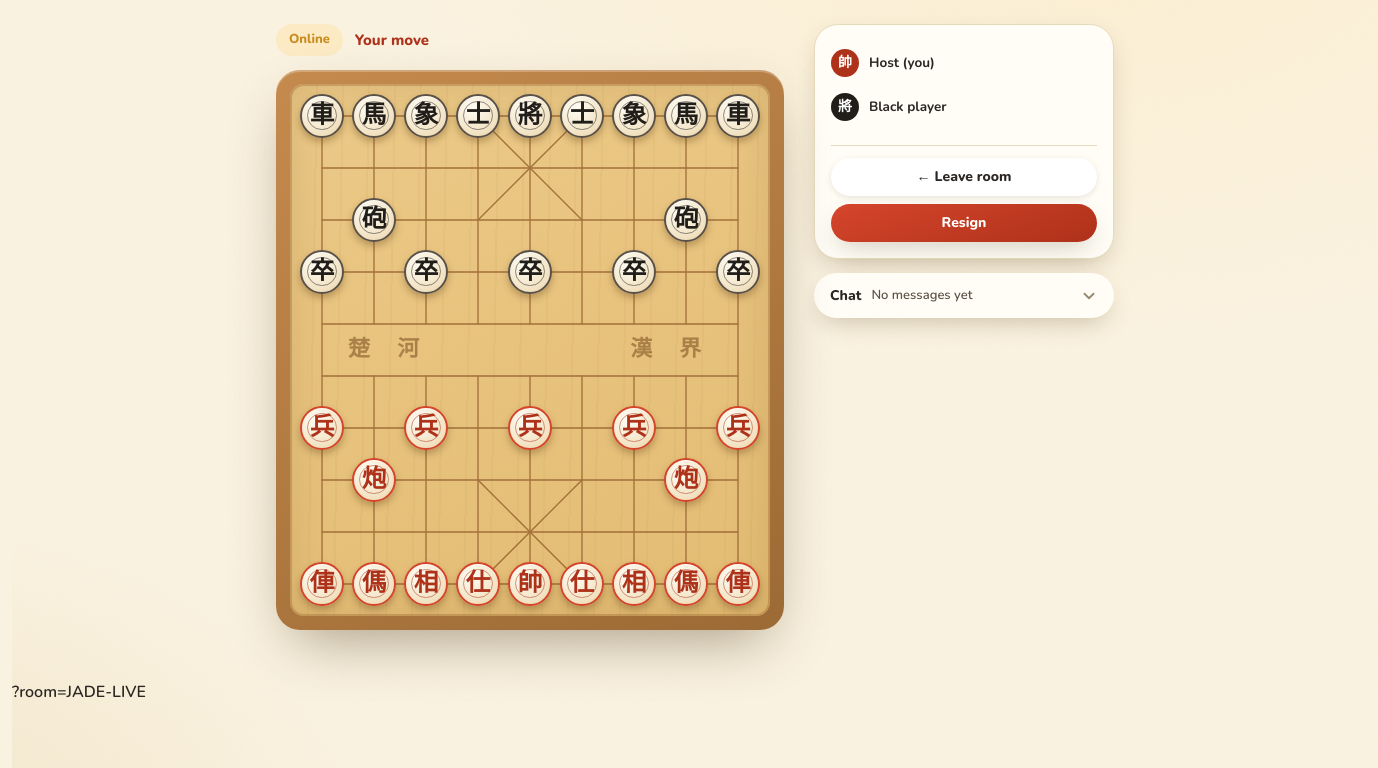
Scenario: MultiplayerScreen rejoin from ?room= › Leave room clears ?room= and stays in the lobby
Click the button "← Leave room" at {"x": 964, "y": 177}, box [831,158,1097,196]
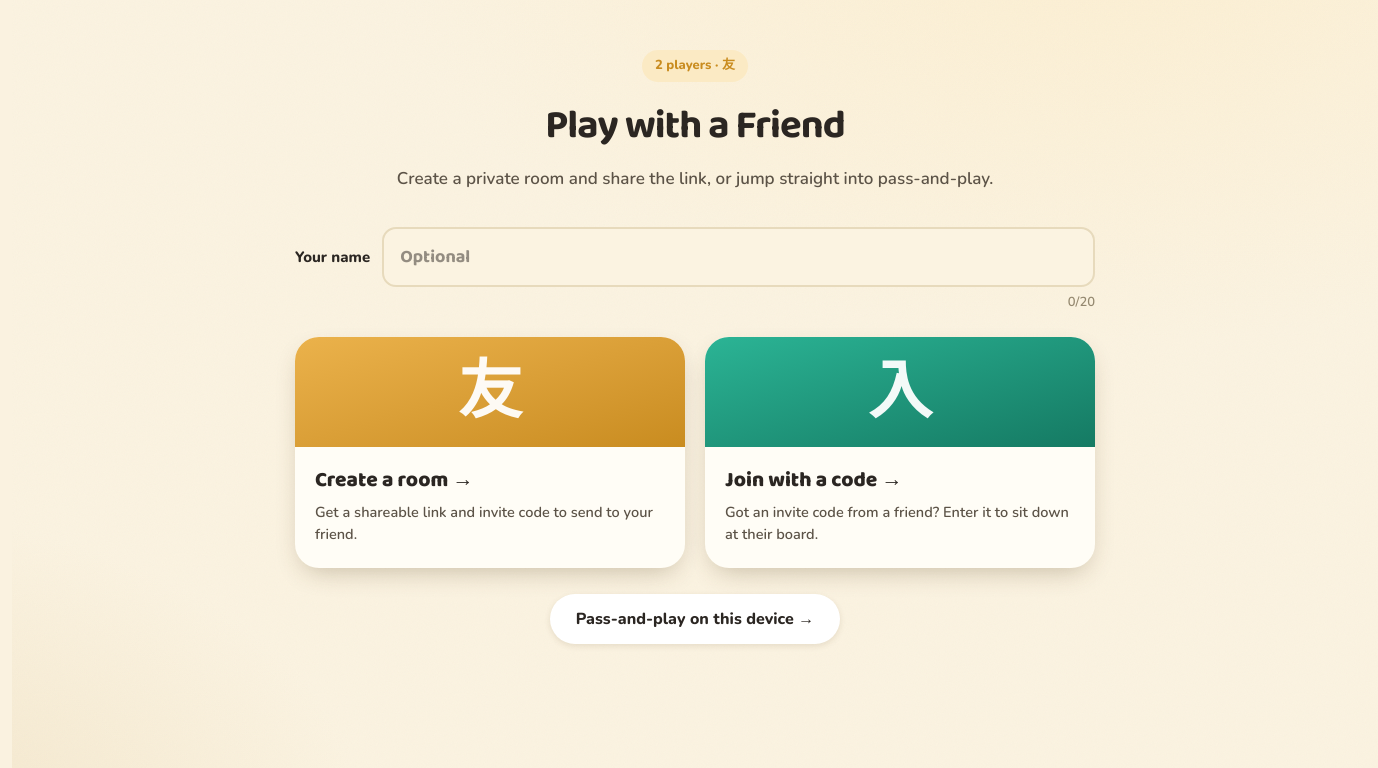
Expected: the heading "Play with a Friend" is shown, [545,94,845,158]
